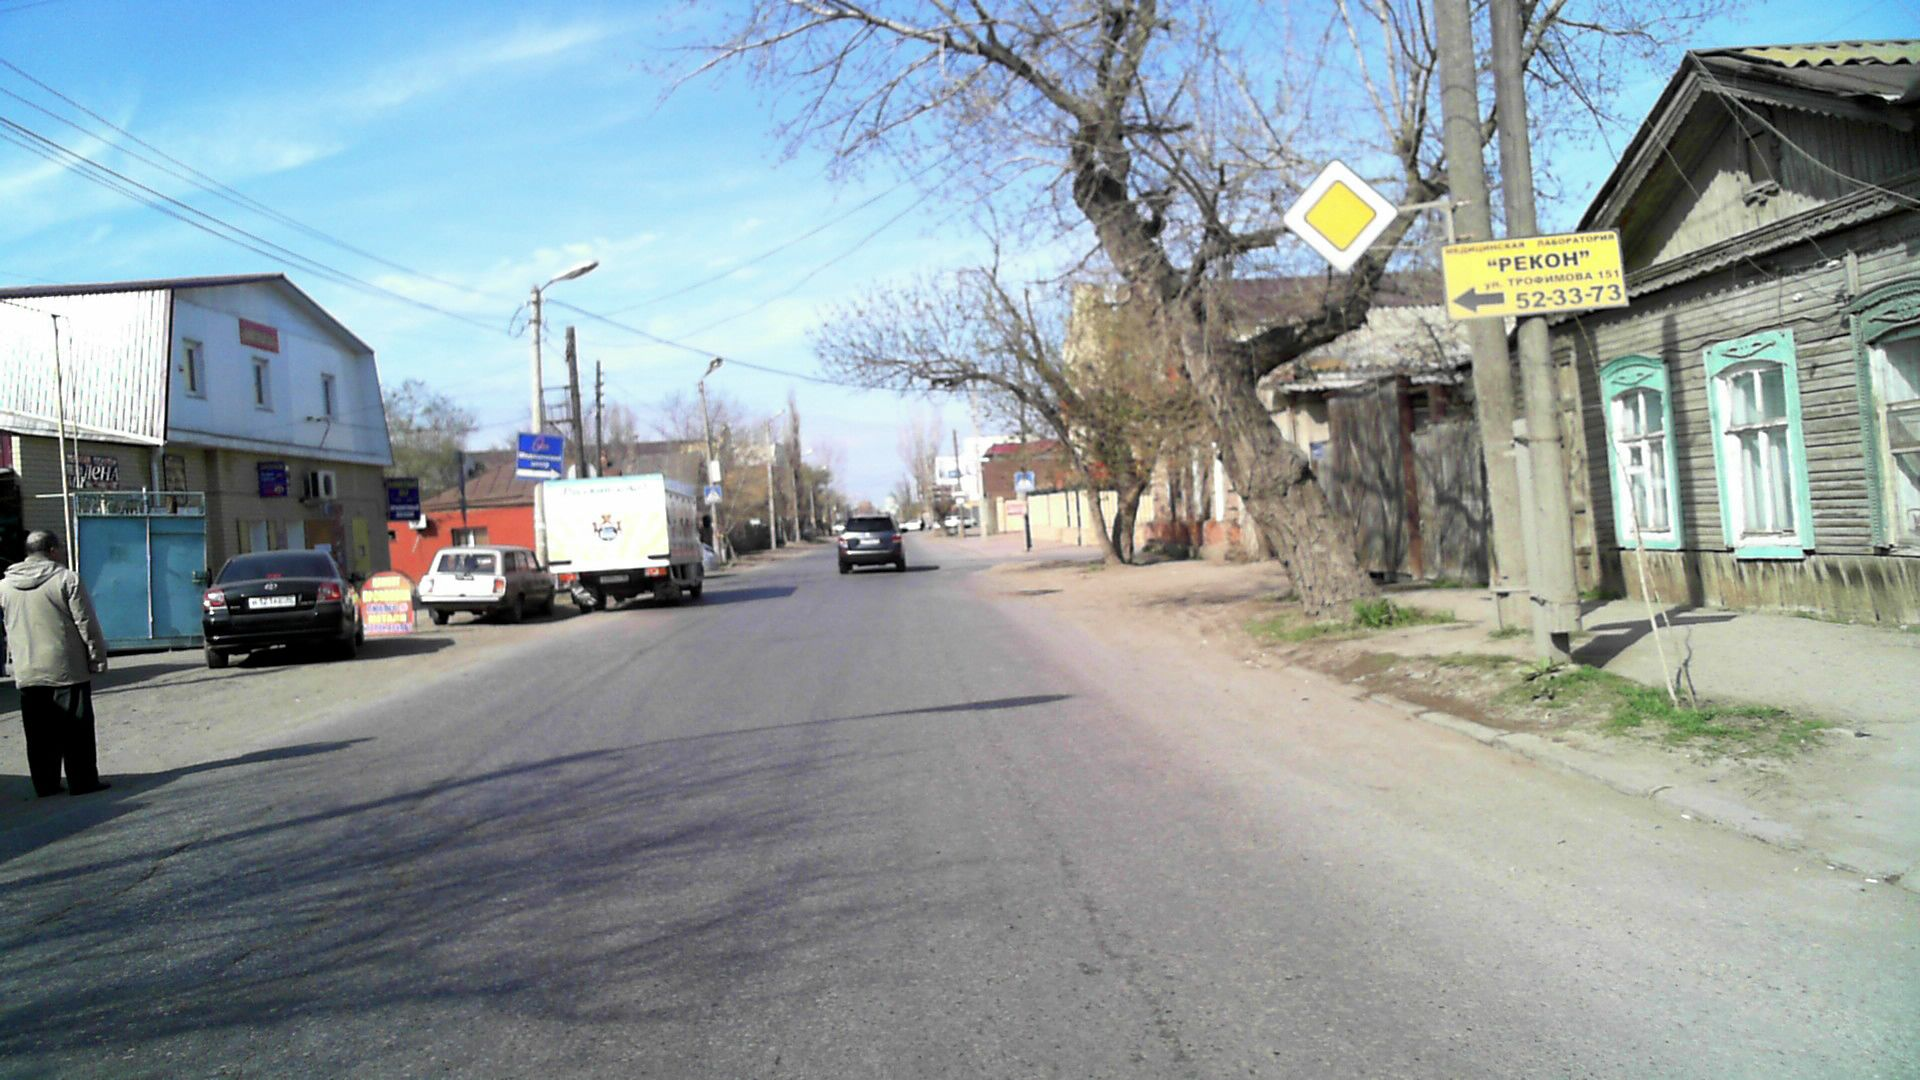Main Road: (1283, 160, 1398, 272)
